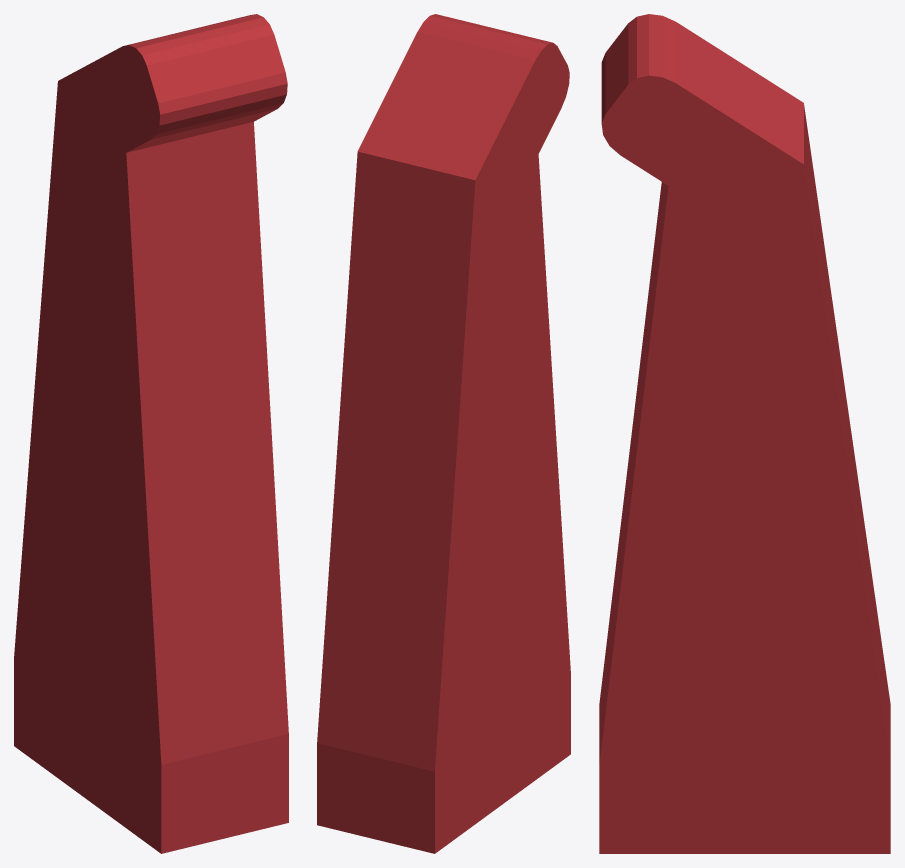
The model's file is Weapon-gun2.glb.
3 renders of one model, left to right at view 1: azimuth 30°, elevation 25°; view 2: azimuth 150°, elevation 25°; view 3: azimuth 270°, elevation 25°, orthographic. The views are drawn at different scales.
Visible parts, largest first — view 1: Cube.001; view 2: Cube.001; view 3: Cube.001.
Part boxes in pixels (x1,y1,x2,y2): Cube.001: [14, 14, 288, 853]; Cube.001: [317, 14, 570, 853]; Cube.001: [599, 14, 890, 853].
Bounding box in the file's own units: 0.6 × 3.54 × 1.2.
